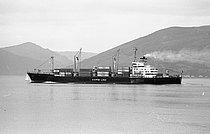Ship: (25, 46, 186, 89)
